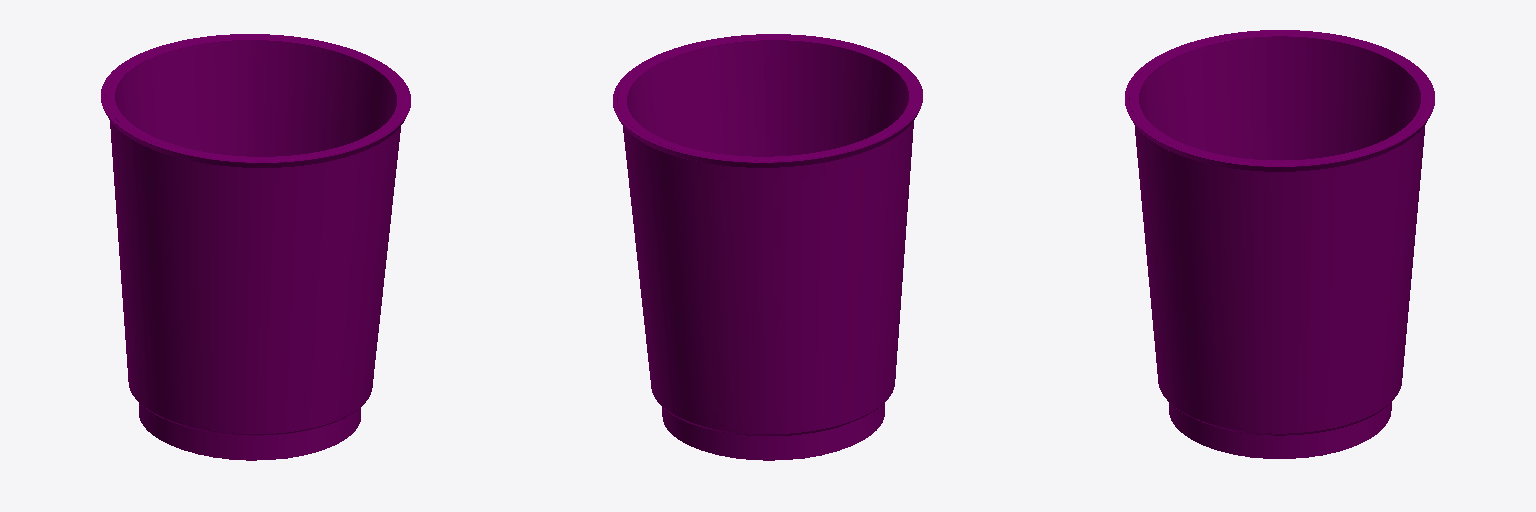
Rendered from cup.obj.
3 views of the same model, side by side, from view 1: azimuth 30°, elevation 25°; view 2: azimuth 150°, elevation 25°; view 3: azimuth 270°, elevation 25° (orthographic).
Visible parts, largest first — view 1: cup; view 2: cup; view 3: cup.
Part boxes in pixels (left/top/right/bottom): cup: left=101, top=34, right=410, bottom=460; cup: left=613, top=34, right=922, bottom=460; cup: left=1125, top=30, right=1434, bottom=458.
Bounding box in the file's own units: 0.1736 × 0.1977 × 0.1736.